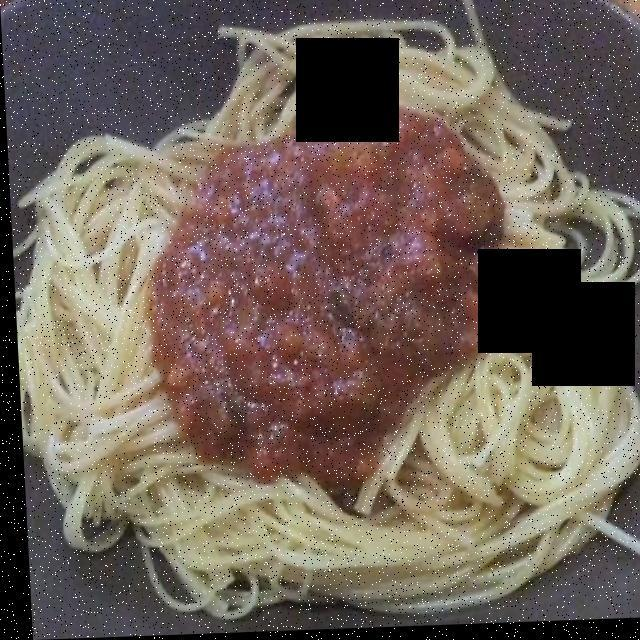pasta: (19, 28, 633, 605)
tomato-sauce: (121, 105, 481, 536)
